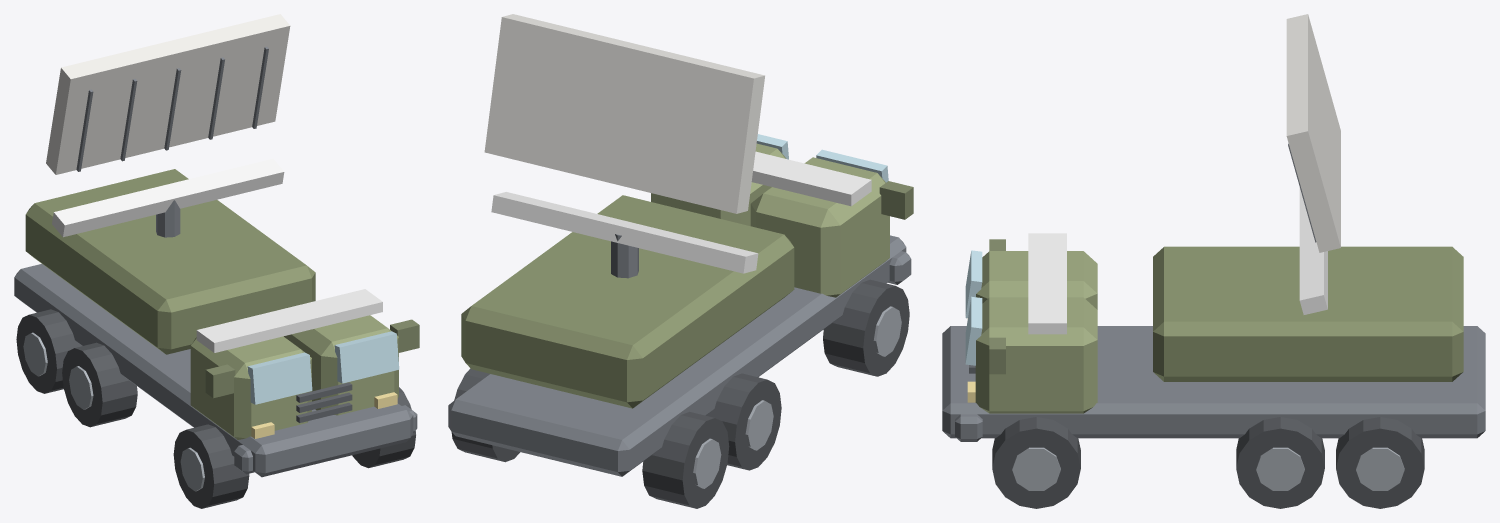
File: mobileradar.glb
3 views of the same model, side by side, from view 1: azimuth 30°, elevation 25°; view 2: azimuth 150°, elevation 25°; view 3: azimuth 270°, elevation 25° (orthographic). The views are drawn at different scales.
Visible parts, largest first — view 1: main, rotor; view 2: main, rotor; view 3: main, rotor.
Boxes of the visible parts, x1,y1,x2,y2 form: main: (14,169,419,508); rotor: (46,14,290,237); main: (448,134,913,508); rotor: (484,14,764,278); main: (942,233,1485,508); rotor: (1286,14,1340,314).
Size of the model in its own units: 0.5 by 0.7612 by 0.98.
